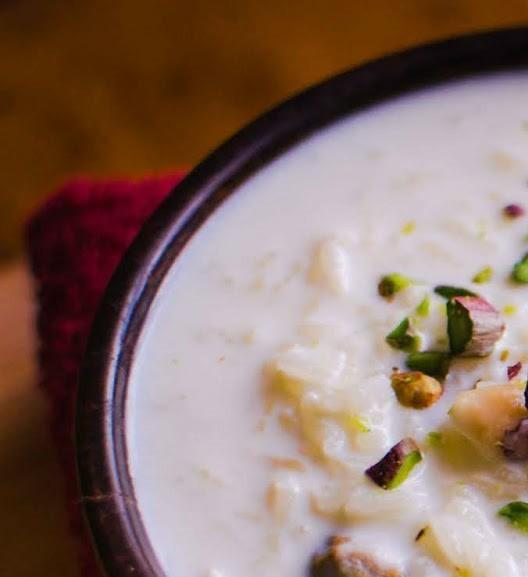Kheer: (125, 70, 528, 572)
